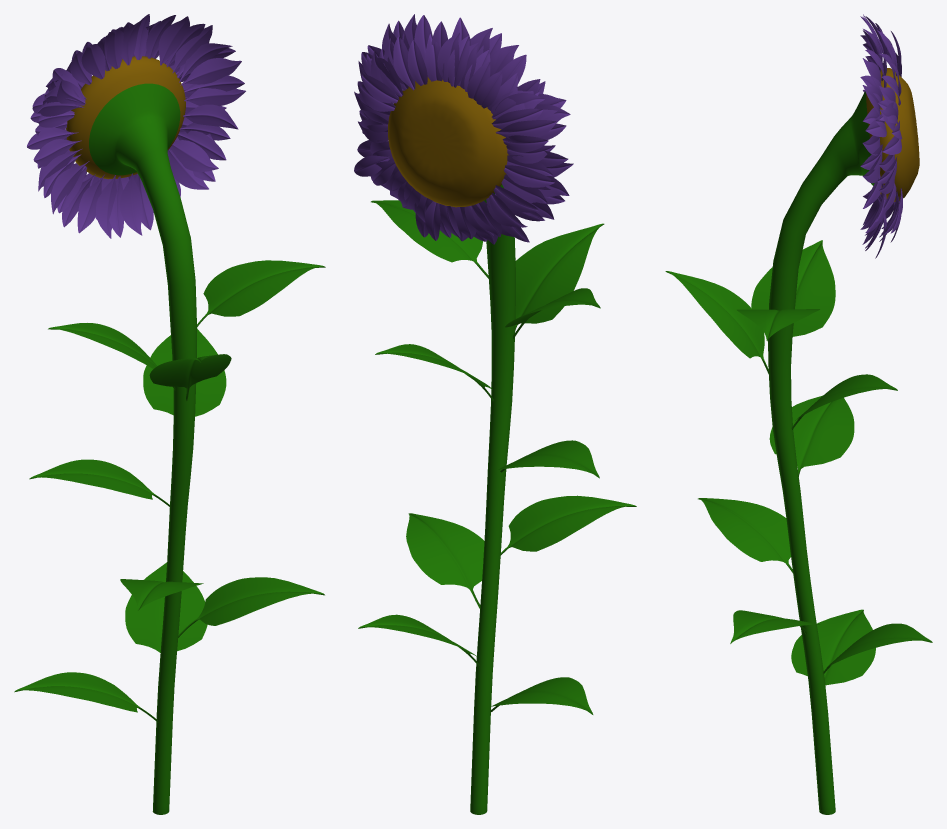
Rendered from purplesunflower.fbx.
The picture shows the model from 3 angles, left to right: view 1: azimuth 30°, elevation 25°; view 2: azimuth 150°, elevation 25°; view 3: azimuth 270°, elevation 25°; orthographic projection. The views are drawn at different scales.
Parts seen in each view (by area): view 1: stem91, pPlane14, pPlane11, pPlane15, pPlane12, pPlane17, pPlane10, pPlane16, pPlane18, pPlane13, leaf88, leaf84 (+13 smaller); view 2: stem91, pPlane16, pPlane15, pPlane13, pPlane14, pPlane17, pPlane10, pPlane11, pPlane12, pPlane18, stem77, stem68 (+11 smaller); view 3: stem91, pPlane13, pPlane10, pPlane18, pPlane17, pPlane16, pPlane11, pPlane15, pPlane12, pPlane14.
Part boxes in pixels (box(x1,y1,x2,y2)): stem91: box(66, 56, 196, 814); pPlane14: box(197, 260, 325, 327); pPlane11: box(125, 562, 207, 652); pPlane15: box(178, 577, 324, 637); pPlane12: box(143, 328, 226, 416); pPlane17: box(14, 672, 158, 722); pPlane10: box(29, 459, 169, 506); pPlane16: box(149, 354, 231, 400); pPlane18: box(48, 323, 175, 390); pPlane13: box(120, 579, 203, 611); leaf88: box(180, 58, 241, 85); leaf84: box(170, 140, 218, 171); stem91: box(388, 77, 515, 814); pPlane16: box(515, 223, 604, 329); pPlane15: box(406, 513, 484, 608); pPlane13: box(500, 495, 636, 555); pPlane14: box(371, 200, 488, 278); pPlane17: box(490, 677, 593, 714); pPlane10: box(498, 440, 599, 478); pPlane11: box(358, 614, 479, 666); pPlane12: box(375, 344, 493, 401); pPlane18: box(505, 288, 600, 338); stem77: box(496, 120, 556, 139); stem68: box(504, 165, 554, 187); stem91: box(768, 68, 919, 814); pPlane13: box(698, 498, 793, 573); pPlane10: box(769, 395, 854, 476); pPlane18: box(751, 240, 835, 336); pPlane17: box(791, 609, 875, 685); pPlane16: box(665, 271, 768, 374); pPlane11: box(823, 623, 932, 673); pPlane15: box(730, 610, 819, 643); pPlane12: box(791, 374, 897, 429); pPlane14: box(737, 309, 819, 341).
Size of the model in its own units: 2.11 by 5.98 by 1.85.
